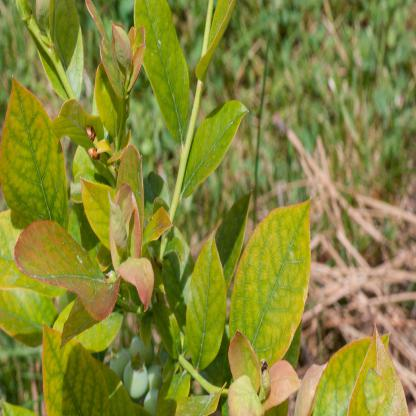Blueberry leaf: (230, 193, 319, 384), (1, 69, 76, 228), (8, 215, 127, 314), (131, 1, 192, 148), (180, 94, 254, 214), (180, 210, 227, 379), (38, 321, 110, 415)
